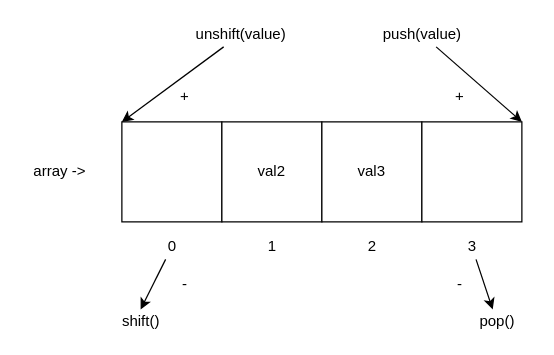
The diagram is 554 pixels wide and 355 high, and some of its shapes have lost their labels. The centre of each missing label's shape, as x and y in pixels:
"val1" goes at pixel 171 171.
"val4" goes at pixel 471 171.
